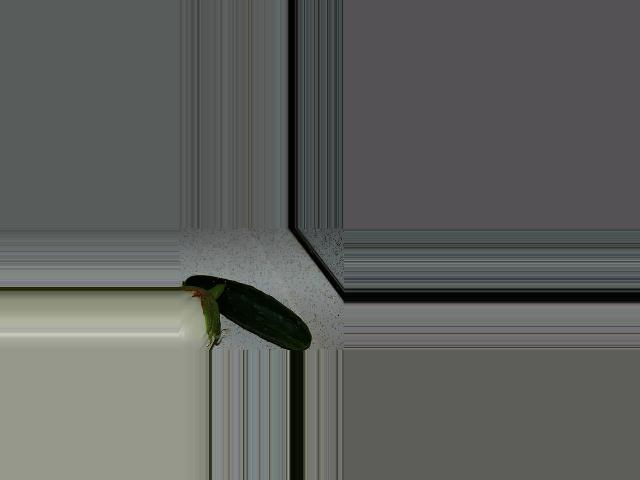cucumber: (182, 276, 311, 351)
